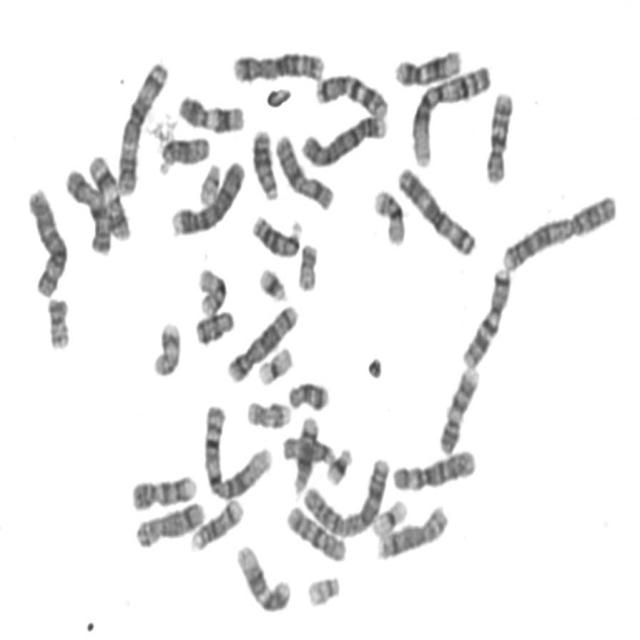A1: (408, 58, 494, 168), (200, 398, 276, 502)
A2: (498, 186, 622, 274), (298, 451, 392, 539)
A3: (393, 158, 480, 258), (113, 54, 171, 196)
B4: (168, 154, 248, 238), (296, 106, 389, 169)
B5: (223, 296, 301, 384), (229, 45, 327, 84)
C10: (282, 498, 350, 564), (481, 83, 517, 186)
C11: (85, 148, 134, 244), (175, 88, 248, 135)
C12: (232, 538, 294, 615), (390, 42, 465, 88)
C6: (24, 180, 70, 300), (388, 442, 478, 493)
C7: (458, 260, 515, 370), (311, 66, 391, 120)
C8: (373, 498, 451, 562), (131, 493, 207, 550)
C9: (436, 360, 483, 456), (127, 468, 200, 512)
D13: (248, 208, 304, 260), (248, 122, 281, 201)
D14: (187, 492, 246, 554), (289, 410, 321, 496)
D15: (154, 129, 212, 176), (278, 429, 338, 468)
E16: (370, 182, 408, 248), (194, 262, 230, 317)
E17: (149, 315, 183, 378), (243, 393, 294, 431)
E18: (191, 303, 237, 347), (284, 375, 332, 412)
F19: (369, 492, 410, 539), (254, 340, 295, 387)
F20: (44, 291, 73, 352), (294, 237, 320, 293)
G21: (322, 441, 356, 487), (256, 261, 290, 303)
G22: (303, 569, 343, 609), (195, 158, 223, 206)
X: (272, 127, 337, 212), (62, 162, 115, 256)
